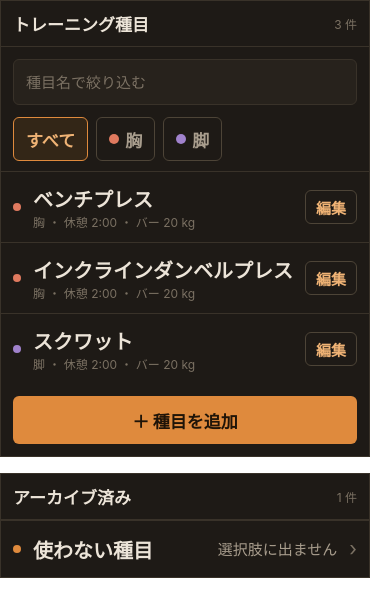
一覧 › 条件に合う種目が無ければそう伝える
The image size is (387, 595).
Type "デッドリフト" into the field with placeholder "種目名で絞り込む" at [185, 82], box [13,59,357,105]
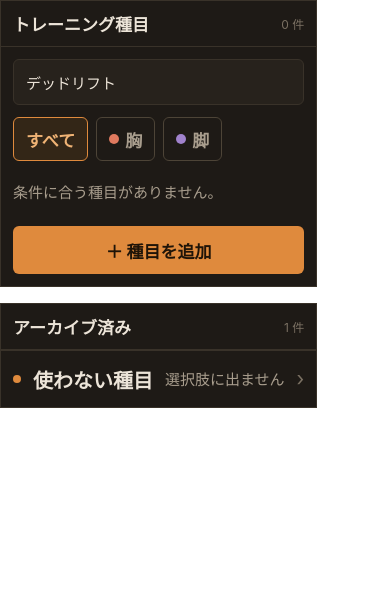
Expected: the text "条件に合う種目がありません。" is shown, [13,183,223,202]
